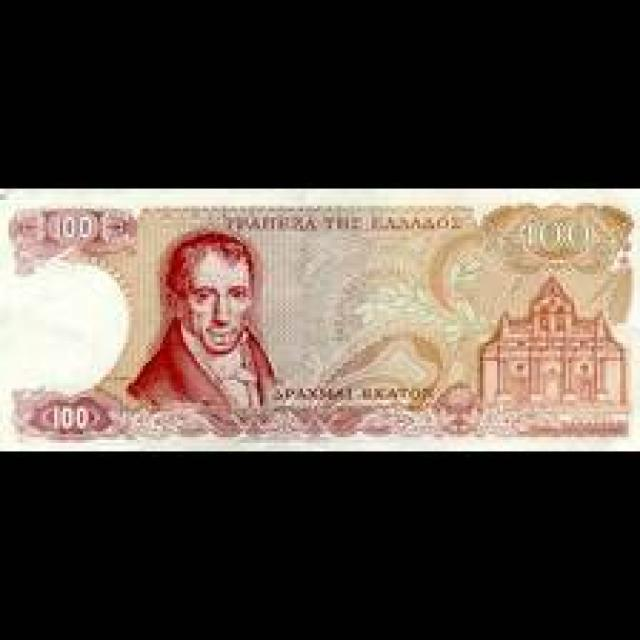banknote: (3, 186, 640, 451), (26, 380, 116, 441), (514, 215, 612, 267), (38, 199, 114, 254)
